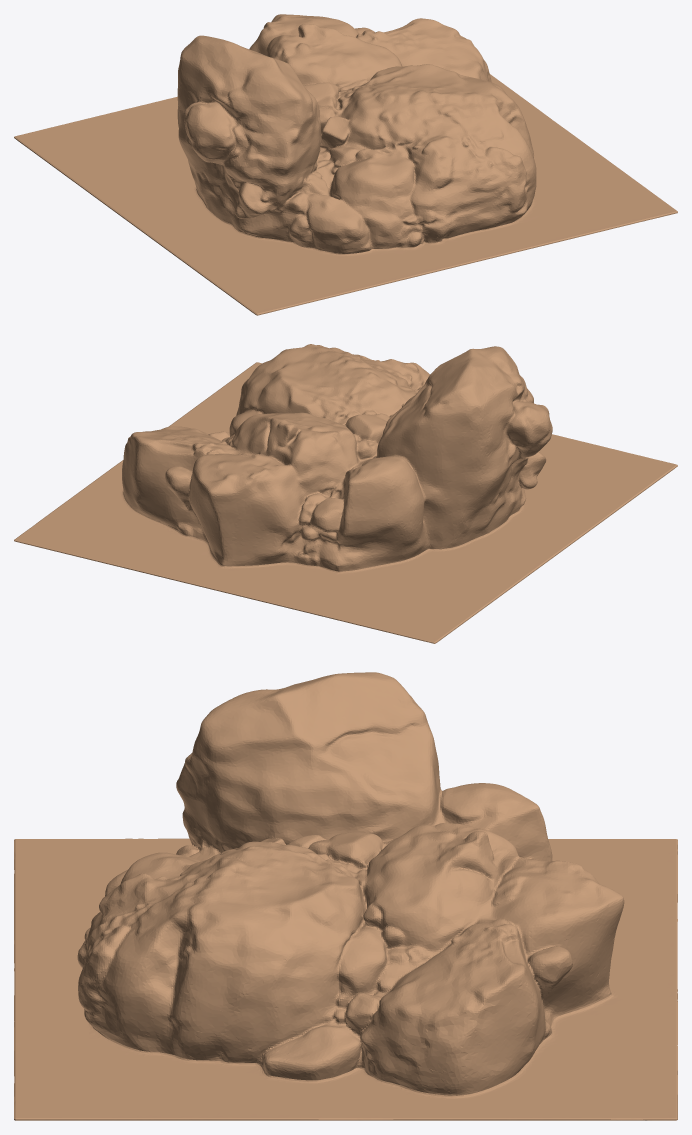
The model's file is SM_Rock_Boulder_B.fbx.
3 renders of one model, top to bottom at view 1: azimuth 30°, elevation 25°; view 2: azimuth 150°, elevation 25°; view 3: azimuth 270°, elevation 25°, orthographic. The views are drawn at different scales.
Parts seen in each view (by area): view 1: SM_Rock_Boulder_B; view 2: SM_Rock_Boulder_B; view 3: SM_Rock_Boulder_B.
Part boxes in pixels (x1,y1,x2,y2): SM_Rock_Boulder_B: (14,14,677,315); SM_Rock_Boulder_B: (14,344,677,643); SM_Rock_Boulder_B: (14,672,677,1120).
Size of the model in its own units: 1.2 by 0.45 by 1.2.
